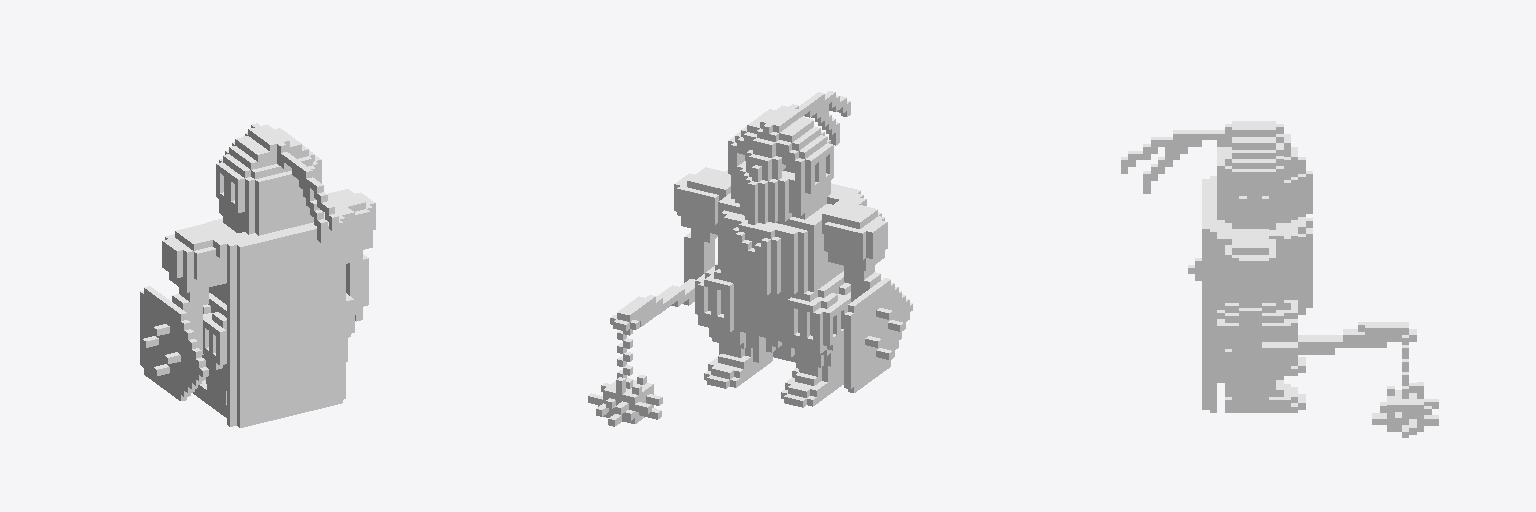
The model's file is Player002_Level004.obj.
The picture shows the model from 3 angles: view 1: azimuth 30°, elevation 25°; view 2: azimuth 150°, elevation 25°; view 3: azimuth 270°, elevation 25°; orthographic projection.
Visible parts, largest first — view 1: object 1; view 2: object 1; view 3: object 1.
Boxes of the visible parts, <box> form: object 1: <box>140,123,375,427</box>; object 1: <box>588,91,912,426</box>; object 1: <box>1121,121,1438,437</box>.
Size of the model in its own units: 3.5 by 3.9 by 4.3.